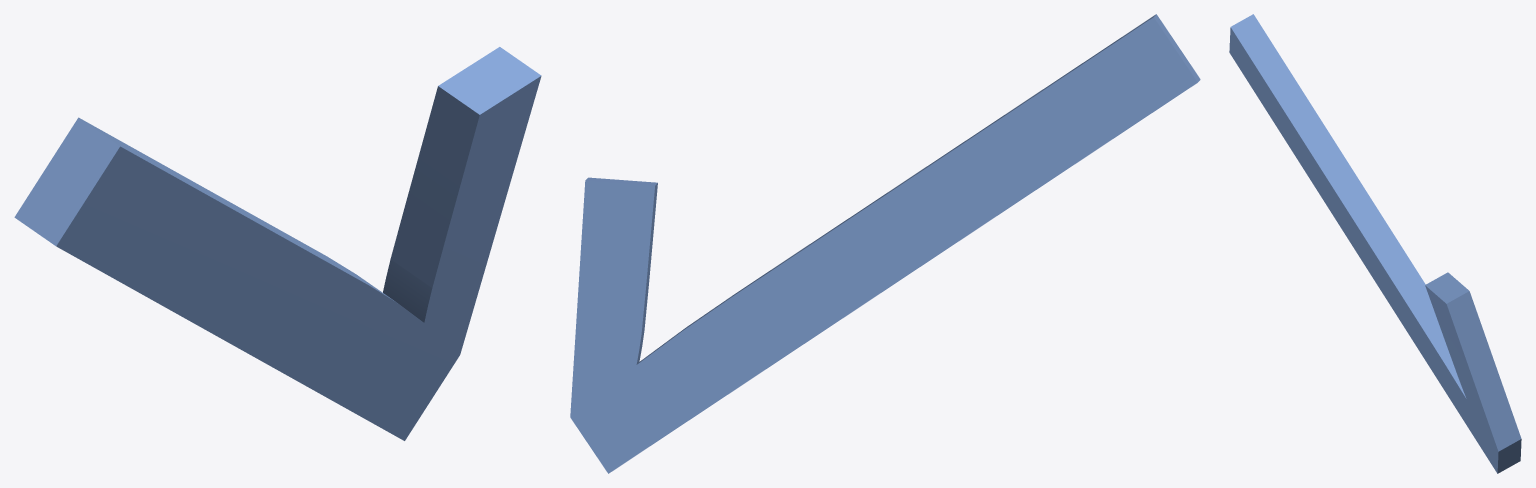
Rendered from New_Number_1.gltf.
3 views of the same model, side by side, from view 1: azimuth 30°, elevation 25°; view 2: azimuth 150°, elevation 25°; view 3: azimuth 270°, elevation 25° (orthographic). The views are drawn at different scales.
Parts seen in each view (by area): view 1: Part 19; view 2: Part 19; view 3: Part 19.
Boxes of the visible parts, x1,y1,x2,y2 form: Part 19: [14, 47, 541, 440]; Part 19: [570, 14, 1200, 473]; Part 19: [1229, 14, 1521, 473].
Size of the model in its own units: 0.00391 by 0.00332 by 0.00274.
